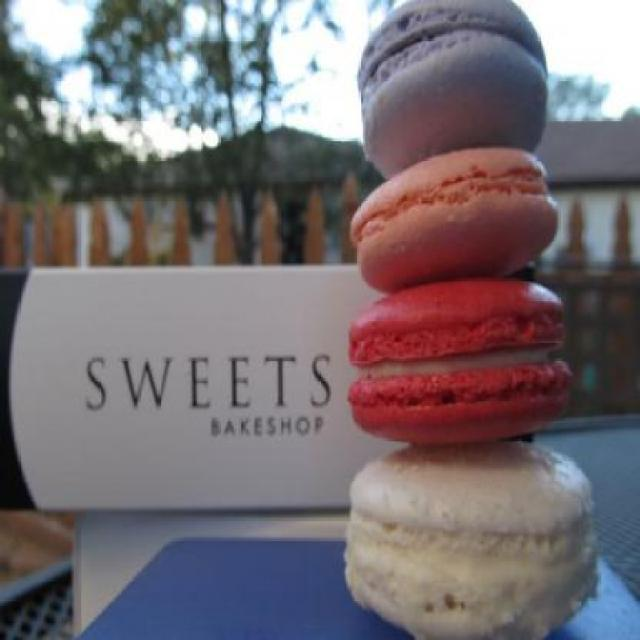Macaron: (340, 3, 616, 639)
